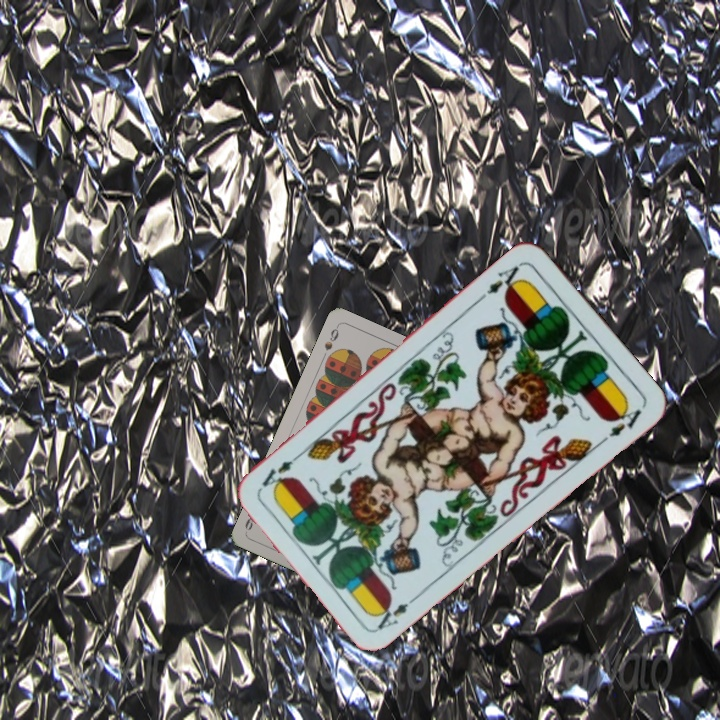EA: (370, 590, 423, 633), (476, 259, 526, 302)
S9: (320, 322, 341, 353)
